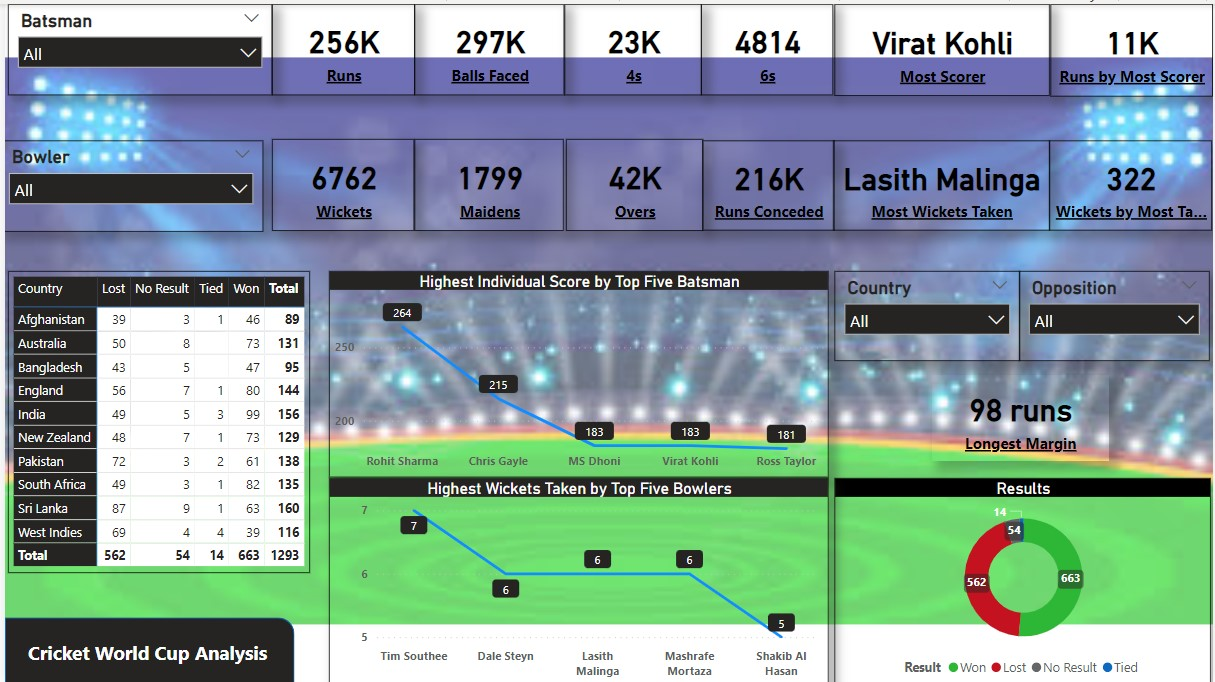

What the dashboard file says about the page in this screenshot:
{"tool":"powerbi","page":{"name":"Report","canvas":[1280,720],"ordinal":0},"visuals":[{"type":"slicer","fields":{"Values":["Batsman_Data.Batsman"]},"box":[3.1,0,279.7,96.4],"z":0},{"type":"card","fields":{"Values":["Batsman_Data.Runs"]},"box":[282.8,0,151.2,96.4],"z":1000},{"type":"card","fields":{"Values":["Batsman_Data.BF"]},"box":[434,0,158.7,96.4],"z":2000},{"type":"slicer","fields":{"Values":["Results Dataset I.Opposition"]},"box":[1074.7,282.5,202.2,95.6],"z":3000},{"type":"pivotTable","fields":{"Rows":["Results Dataset I.Country"],"Columns":["Results Dataset I.Result"],"Values":["Results Dataset I.Result"]},"box":[3.7,283.1,319.8,319.8],"z":4000},{"type":"card","fields":{"Values":["Batsman_Data.4s"]},"box":[592.7,0,145.5,96.4],"z":5000},{"type":"slicer","fields":{"Values":["Results Dataset I.Country"]},"box":[878.7,283.1,196.7,95.6],"z":6000},{"type":"card","fields":{"Values":["Batsman_Data.6s"]},"box":[738.2,0,139.8,96.4],"z":7000},{"type":"card","fields":{"Values":["Results Dataset I.Margin"]},"box":[982.3,392.6,187.5,92.2],"z":8000},{"type":"lineChart","title":"Highest Individual Score by Top Five Batsman","fields":{"Category":["Batsman_Dataset II.Batsman"],"Y":["Batsman_Dataset II.Runs"]},"box":[343.7,283.1,529.4,218.7],"z":9000},{"type":"card","fields":{"Values":["Batsman_Data.Batsman"]},"box":[878.7,0,227.9,97.4],"z":10000},{"type":"donutChart","title":"Results","fields":{"Category":["Results Dataset I.Result"],"Y":["Results Dataset I.Result"]},"box":[878.7,501.8,398.9,218.7],"z":11000},{"type":"lineChart","title":"Highest Wickets Taken by Top Five Bowlers","fields":{"Category":["Bowler_Dataset II.Bowler"],"Y":["Bowler_Dataset II.Wkts"]},"box":[343.7,501.8,529.4,218.7],"z":12000},{"type":"card","fields":{"Values":["Batsman_Data.Runs"]},"box":[1107.4,0,172,98.3],"z":13000},{"type":"shape","box":[0,650.7,307,69.9],"z":14000},{"type":"slicer","fields":{"Values":["Bowler_Dataset I.Bowler"]},"box":[-6.6,144.4,279.7,96.4],"z":15000},{"type":"card","fields":{"Values":["Bowler_Dataset I.Wkts"]},"box":[283.1,143.4,150.7,97.4],"z":16000},{"type":"card","fields":{"Values":["Bowler_Dataset I.Mdns"]},"box":[433.8,143.4,158.1,97.4],"z":17000},{"type":"card","fields":{"Values":["Bowler_Dataset I.Overs"]},"box":[593.7,143.4,145.2,97.4],"z":18000},{"type":"card","fields":{"Values":["Bowler_Dataset I.Runs"]},"box":[739,145.2,139.7,95.6],"z":19000},{"type":"card","fields":{"Values":["Bowler_Dataset I.Bowler"]},"box":[876.8,145.2,229.8,95.6],"z":20000},{"type":"card","fields":{"Values":["Bowler_Dataset I.Wkts"]},"box":[1106.6,145.2,172.8,95.6],"z":21000}]}

Visuals, with their boxes in screenshot pixels (x1, y1, x2, y2), scaled from the page's 1280x720 canvas onto the 1215x682 screenshot:
slicer - Batsman_Data.Batsman: <bbox>3, 0, 268, 91</bbox>
card - Batsman_Data.Runs: <bbox>268, 0, 412, 91</bbox>
card - Batsman_Data.BF: <bbox>412, 0, 563, 91</bbox>
slicer - Results Dataset I.Opposition: <bbox>1020, 268, 1212, 358</bbox>
pivotTable - Results Dataset I.Country x Results Dataset I.Result: <bbox>4, 268, 307, 571</bbox>
card - Batsman_Data.4s: <bbox>563, 0, 701, 91</bbox>
slicer - Results Dataset I.Country: <bbox>834, 268, 1021, 359</bbox>
card - Batsman_Data.6s: <bbox>701, 0, 833, 91</bbox>
card - Results Dataset I.Margin: <bbox>932, 372, 1110, 459</bbox>
"Highest Individual Score by Top Five Batsman" lineChart: <bbox>326, 268, 829, 475</bbox>
card - Batsman_Data.Batsman: <bbox>834, 0, 1050, 92</bbox>
"Results" donutChart: <bbox>834, 475, 1213, 681</bbox>
"Highest Wickets Taken by Top Five Bowlers" lineChart: <bbox>326, 475, 829, 681</bbox>
card - Batsman_Data.Runs: <bbox>1051, 0, 1214, 93</bbox>
shape: <bbox>0, 616, 291, 681</bbox>
slicer - Bowler_Dataset I.Bowler: <bbox>0, 137, 259, 228</bbox>
card - Bowler_Dataset I.Wkts: <bbox>269, 136, 412, 228</bbox>
card - Bowler_Dataset I.Mdns: <bbox>412, 136, 562, 228</bbox>
card - Bowler_Dataset I.Overs: <bbox>564, 136, 701, 228</bbox>
card - Bowler_Dataset I.Runs: <bbox>701, 138, 834, 228</bbox>
card - Bowler_Dataset I.Bowler: <bbox>832, 138, 1050, 228</bbox>
card - Bowler_Dataset I.Wkts: <bbox>1050, 138, 1214, 228</bbox>
